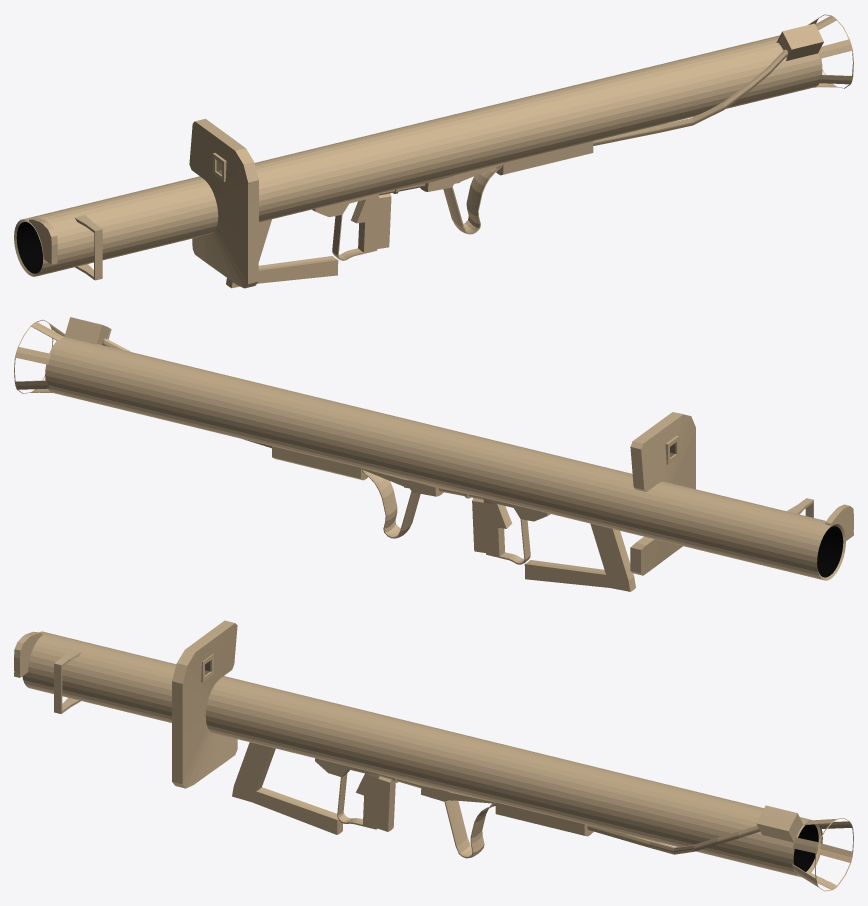
The model's file is toob.glb.
3 views of the same model, one above another, from view 1: azimuth 30°, elevation 25°; view 2: azimuth 150°, elevation 25°; view 3: azimuth 330°, elevation 25° (orthographic).
Parts seen in each view (by area): view 1: Cylinder; view 2: Cylinder; view 3: Cylinder.
Boxes of the visible parts, <box> form: Cylinder: <box>14,14,853,288</box>; Cylinder: <box>14,317,853,591</box>; Cylinder: <box>14,620,853,891</box>.
Bounding box in the file's own units: 4.95 × 1.03 × 0.6482.
